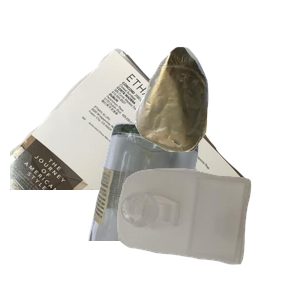glass: (86, 120, 277, 300)
paper: (10, 46, 250, 226)
plastic: (115, 166, 300, 300)
trash: (131, 44, 300, 189)
